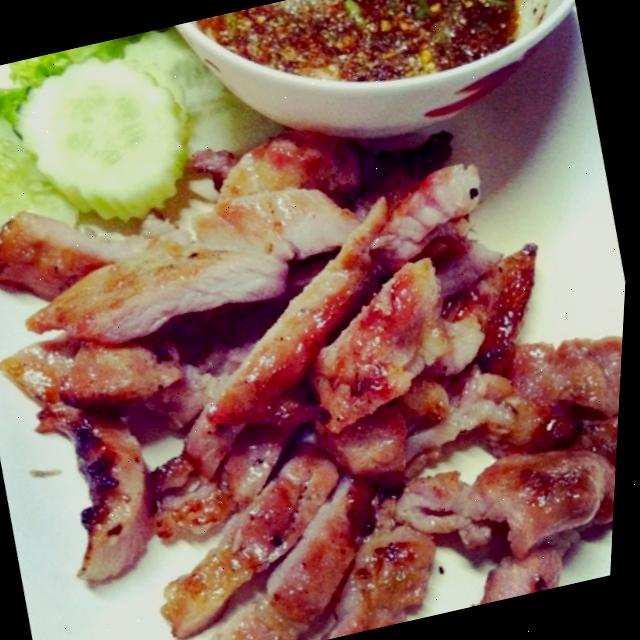猪肉菜式: (0, 71, 637, 640)
